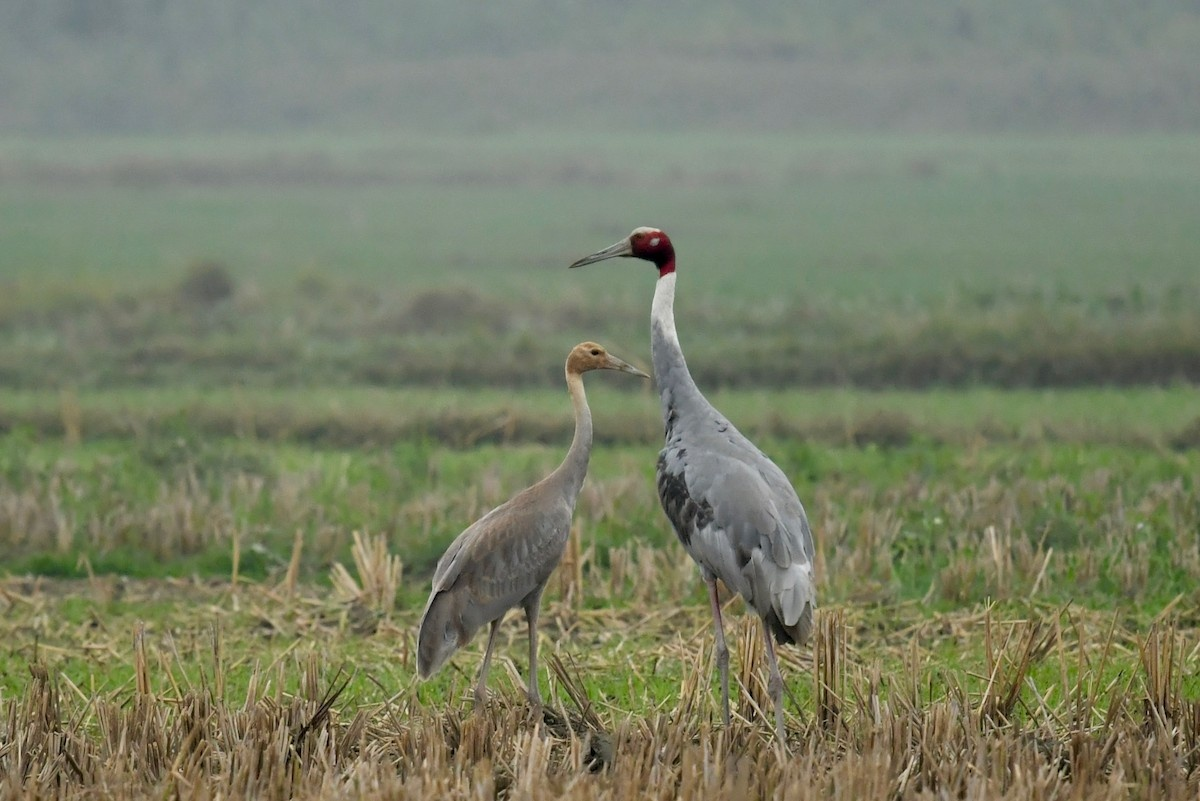crane: (570, 206, 854, 730), (412, 336, 654, 718)
